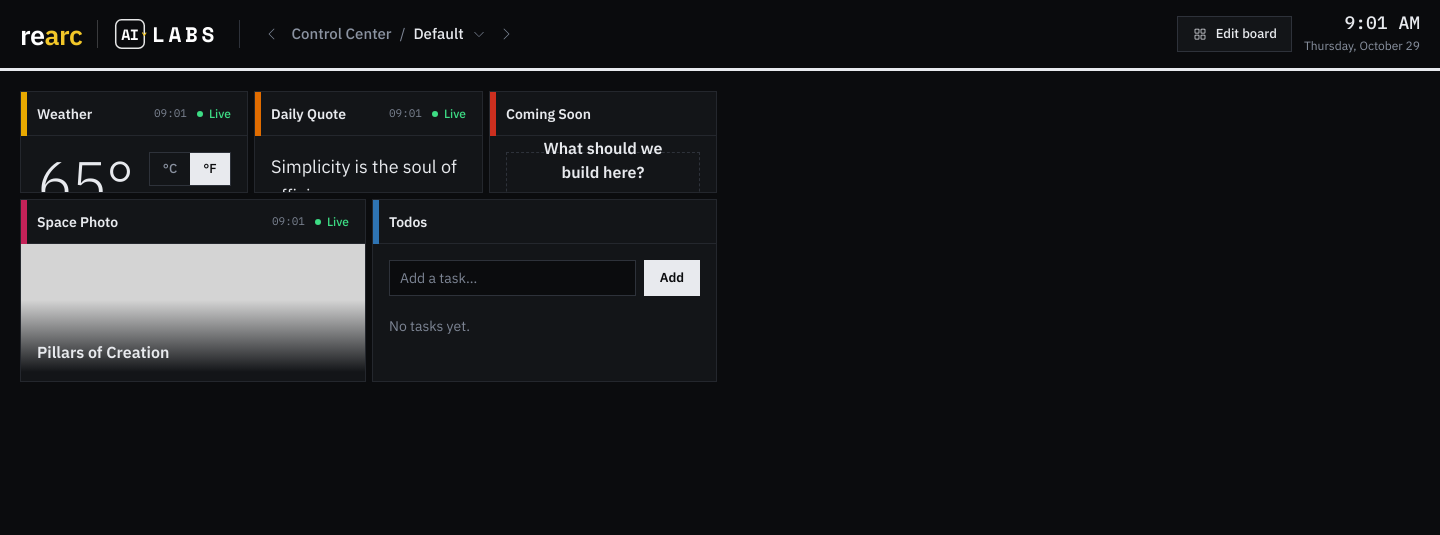
Test: the whole board › threads the lock state from the header button down to every card
The image size is (1440, 535).
Click the button "Edit board" at {"x": 1234, "y": 34}, box [1177,16,1292,52]
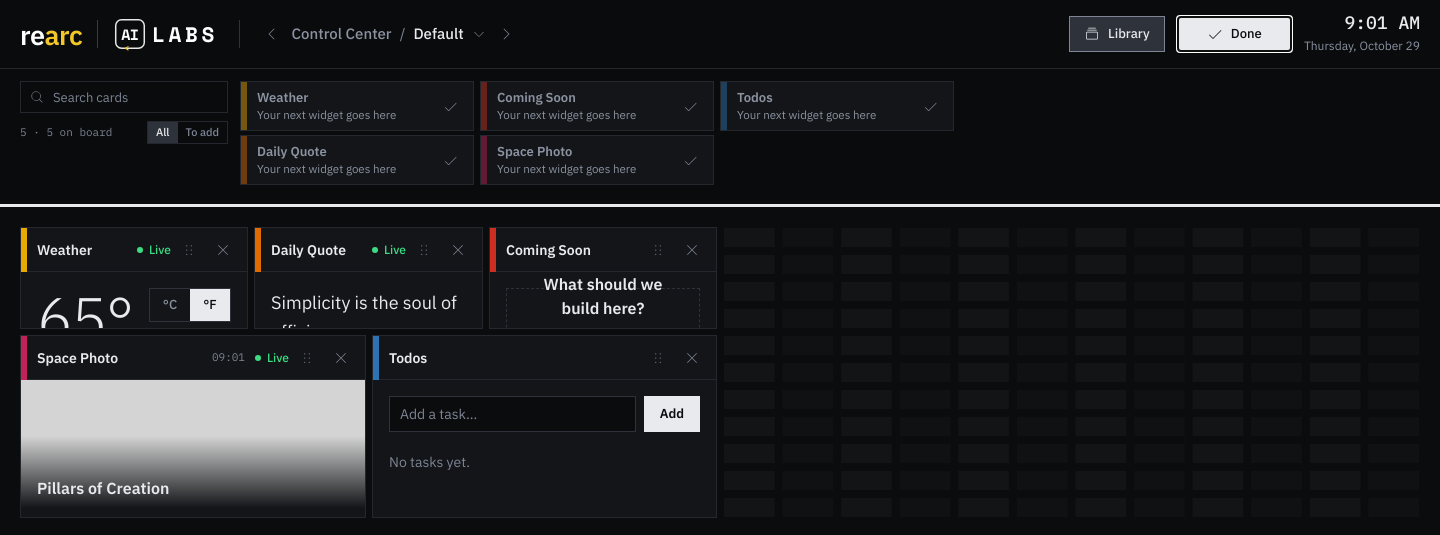
Expected: the number of elements titled "Drag to move" is 5, [181,242,197,258]; [416,242,432,258]; [650,242,666,258]; [299,350,315,366]; [650,350,666,366]
